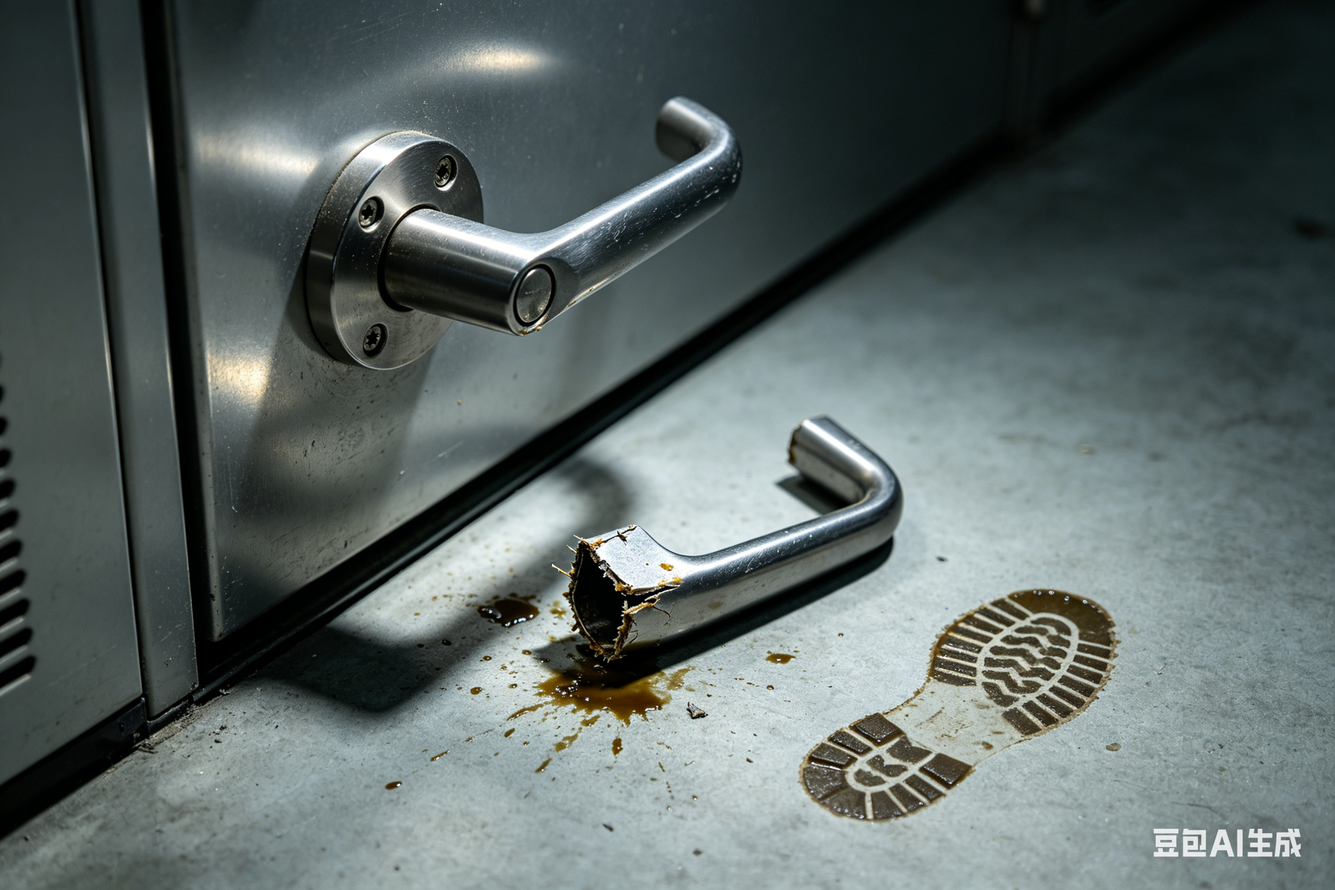BadLock: (526, 501, 784, 667)
